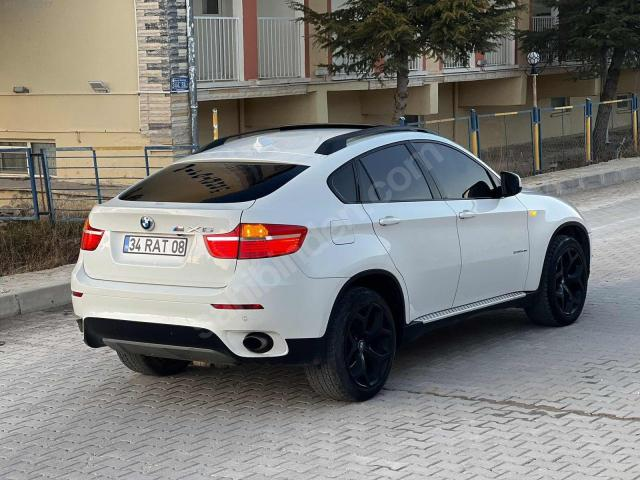plaka: (122, 235, 187, 256)
